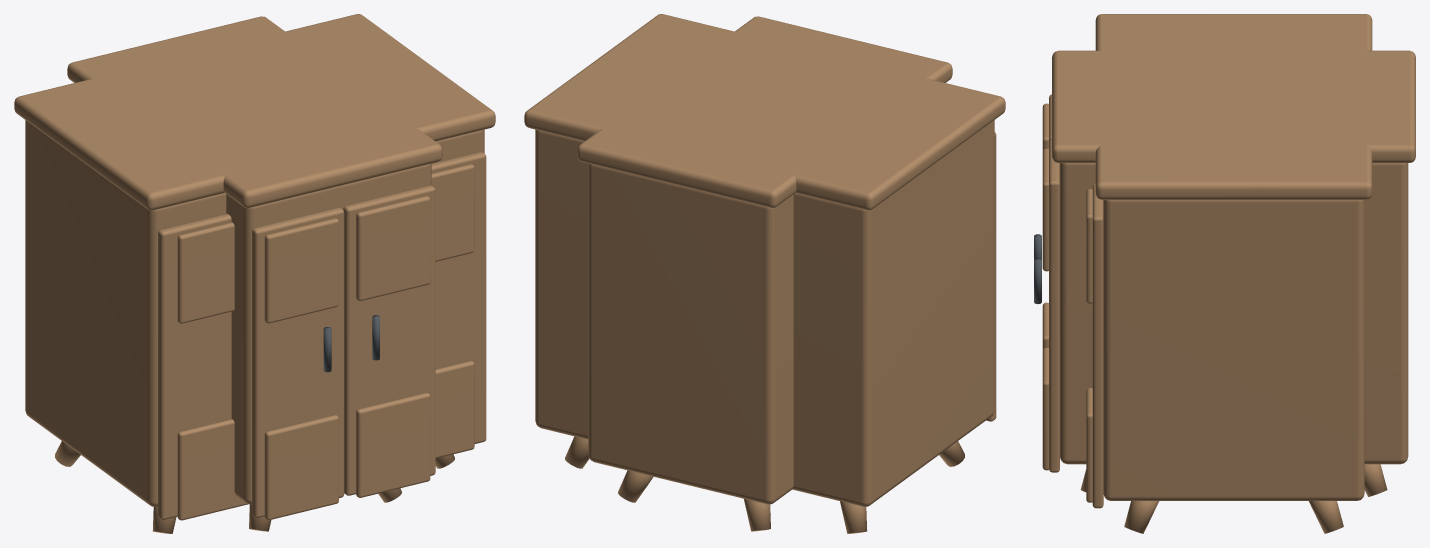
Rendered from atelier-corner-cabinet.glb.
The picture shows the model from 3 angles, left to right: view 1: azimuth 30°, elevation 25°; view 2: azimuth 150°, elevation 25°; view 3: azimuth 270°, elevation 25°; orthographic projection.
Parts seen in each view (by area): view 1: legs.156, metal.115; view 2: legs.156; view 3: legs.156, metal.115.
Part boxes in pixels (x1,y1,x2,y2): legs.156: (14,14,495,533); metal.115: (323,315,379,372); legs.156: (524,14,1005,533); legs.156: (1042,14,1415,533); metal.115: (1034,234,1041,303).
Bounding box in the file's own units: 0.935 × 0.9293 × 0.8765.
